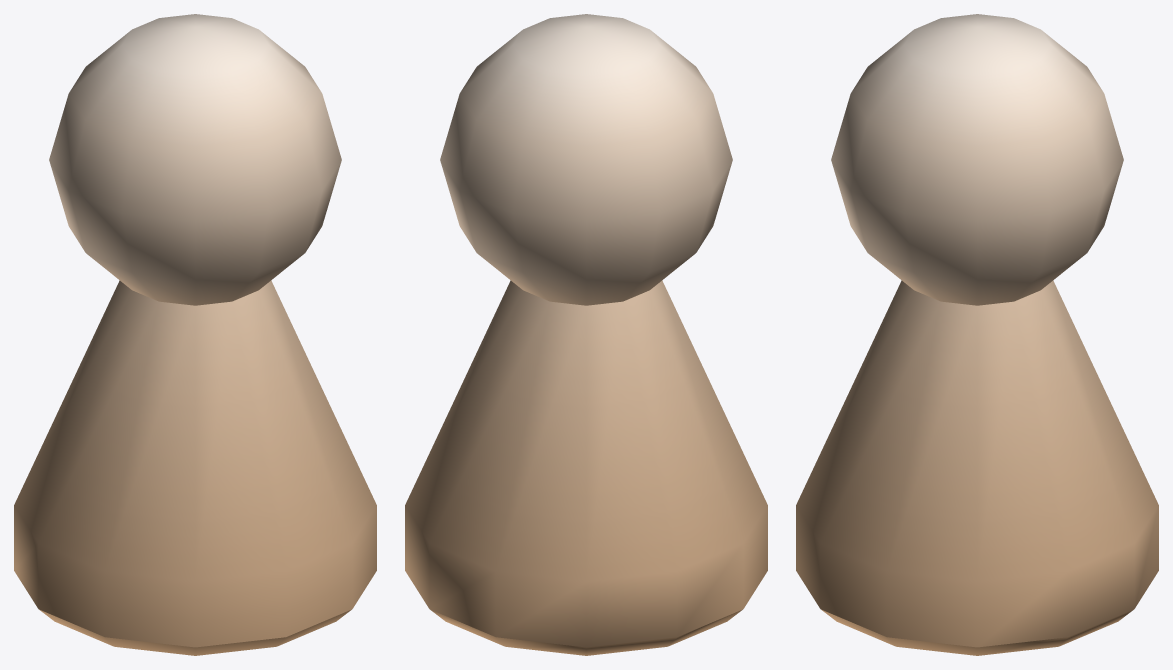
Rendered from unit.glb.
3 views of the same model, side by side, from view 1: azimuth 30°, elevation 25°; view 2: azimuth 150°, elevation 25°; view 3: azimuth 270°, elevation 25° (orthographic).
Visible parts, largest first — view 1: unit; view 2: unit; view 3: unit.
Boxes of the visible parts, x1,y1,x2,y2 form: unit: (14, 14, 376, 655); unit: (405, 14, 767, 655); unit: (796, 14, 1158, 655).
Bounding box in the file's own units: 0.2 × 0.3407 × 0.2.
Materials: 1 (1 with a texture image).
